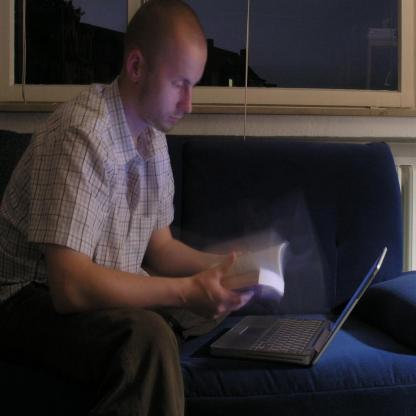board: (209, 246, 386, 368)
